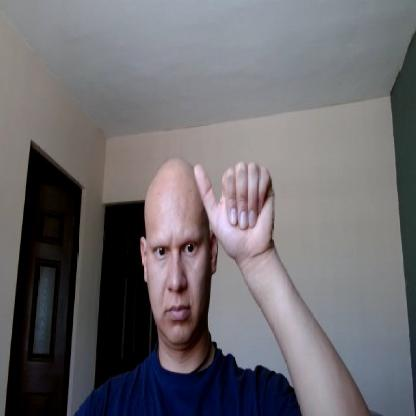A: (193, 158, 276, 258)
